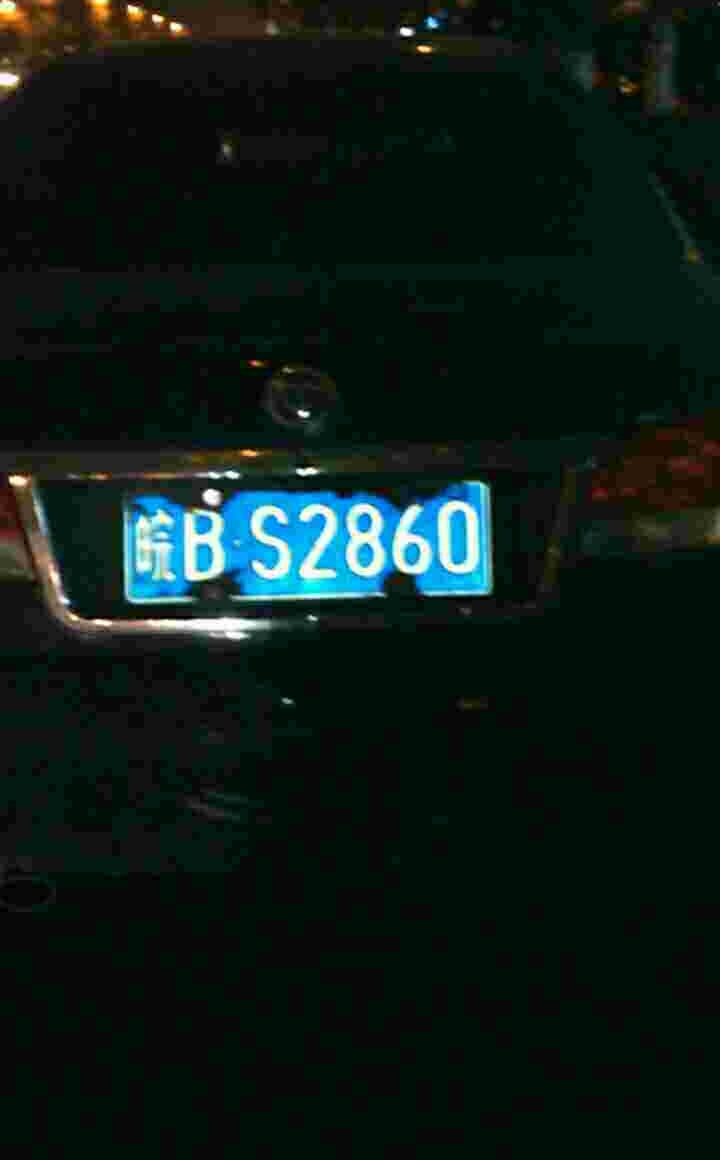license_plate: (129, 484, 503, 603)
